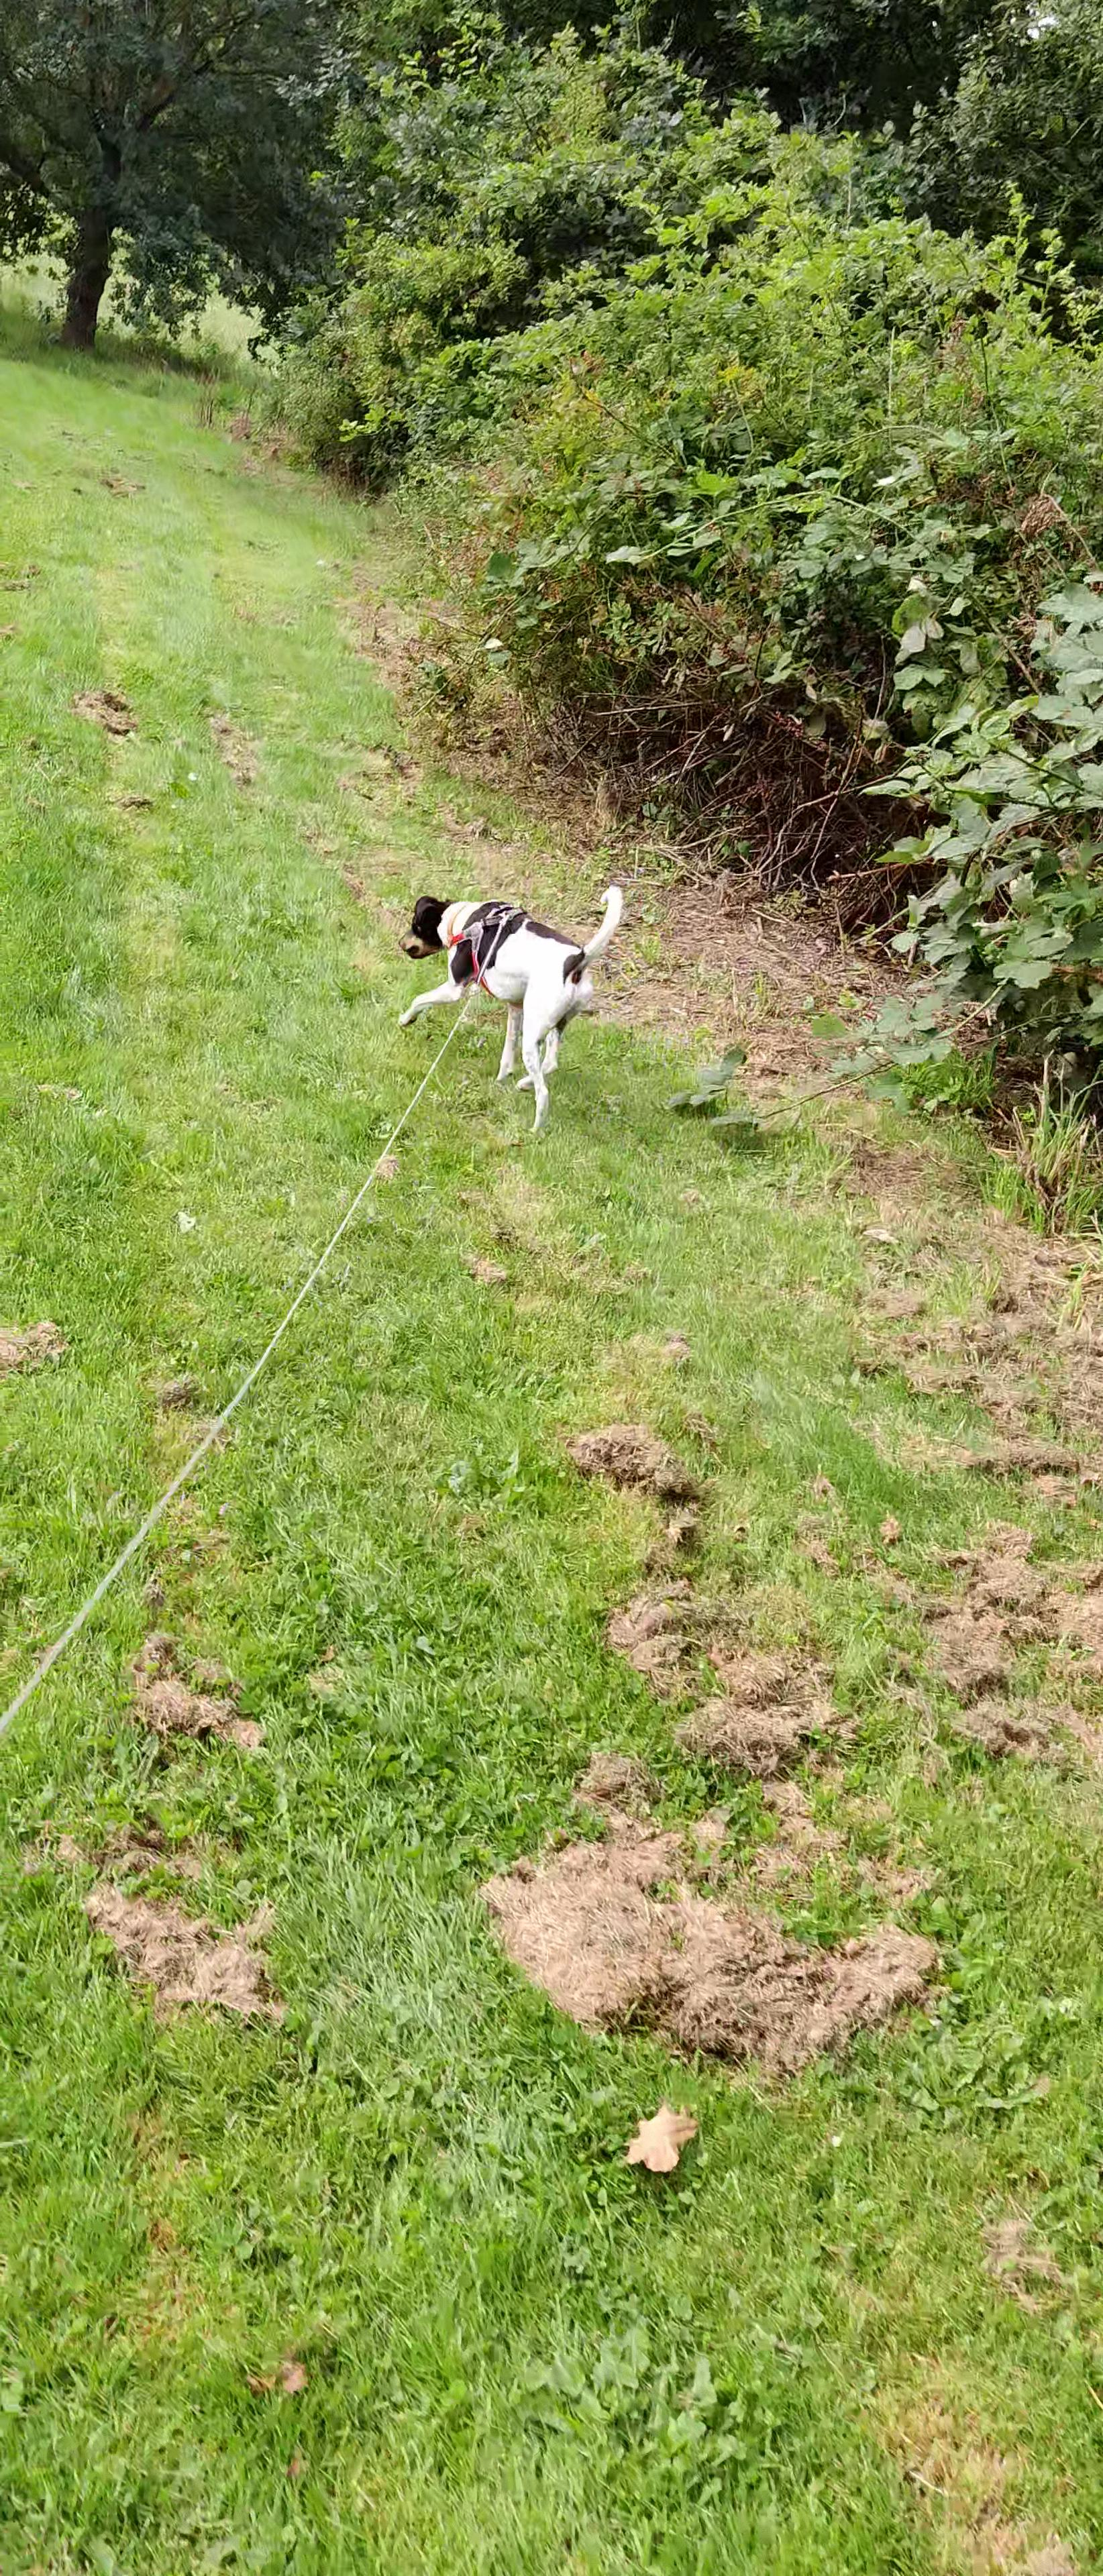Dog: (380, 849, 643, 1145)
